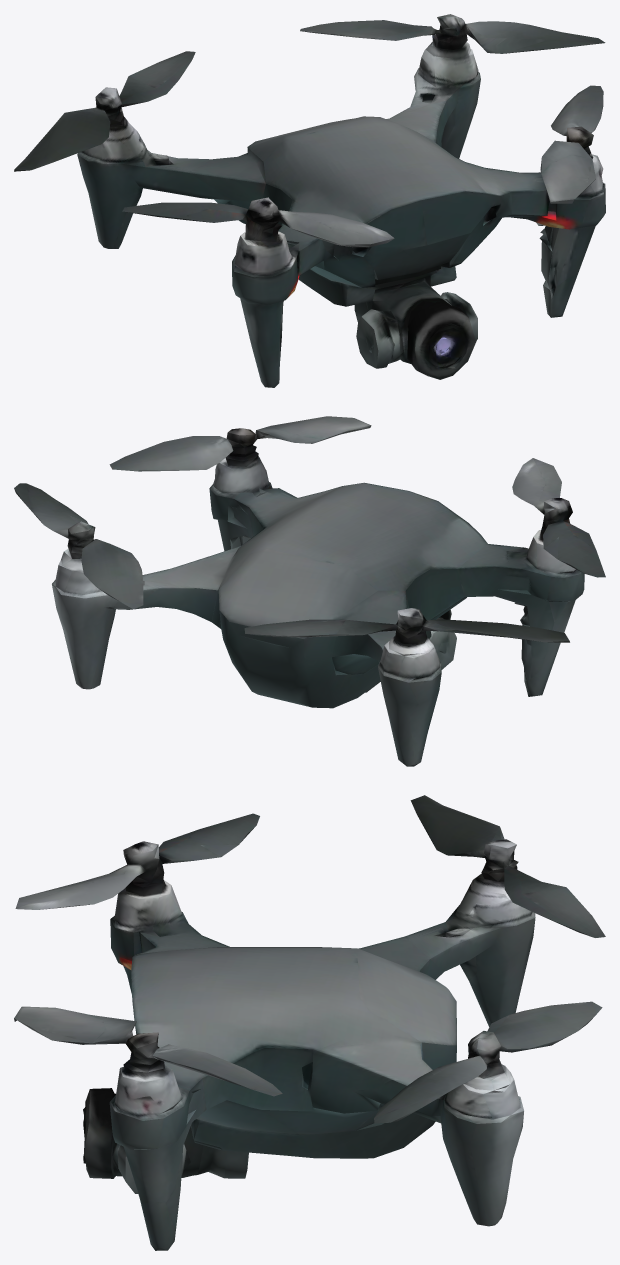
The model's file is m2NeonSentryDrone.glb.
The picture shows the model from 3 angles, top to bottom: view 1: azimuth 30°, elevation 25°; view 2: azimuth 150°, elevation 25°; view 3: azimuth 270°, elevation 25°; orthographic projection. The views are drawn at different scales.
Visible parts, largest first — view 1: model; view 2: model; view 3: model.
Boxes of the visible parts, bbox=[...] form: model: bbox=[14, 14, 605, 387]; model: bbox=[14, 416, 605, 766]; model: bbox=[14, 795, 605, 1250].
Size of the model in its own units: 1.89 by 0.6389 by 1.43.
1 material, 1 textured.
